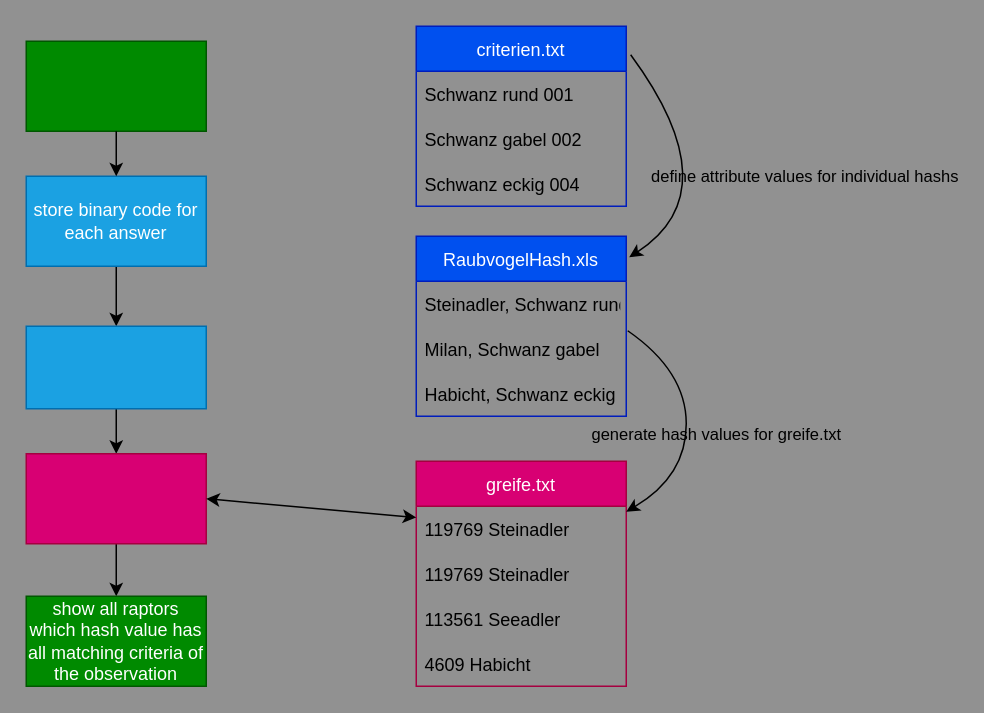
The diagram is 984 pixels wide and 713 high, and some of its shapes have lost their labels. Here are the shapes that lost their labels. From the top down, the centre of each, then its label:
point (115, 85): ask for attributes
point (115, 367): binary add all observed attributes
point (115, 498): pattern match binary code to greife.txt file
